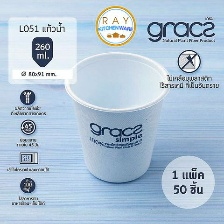paper_cup: (61, 47, 176, 188)
